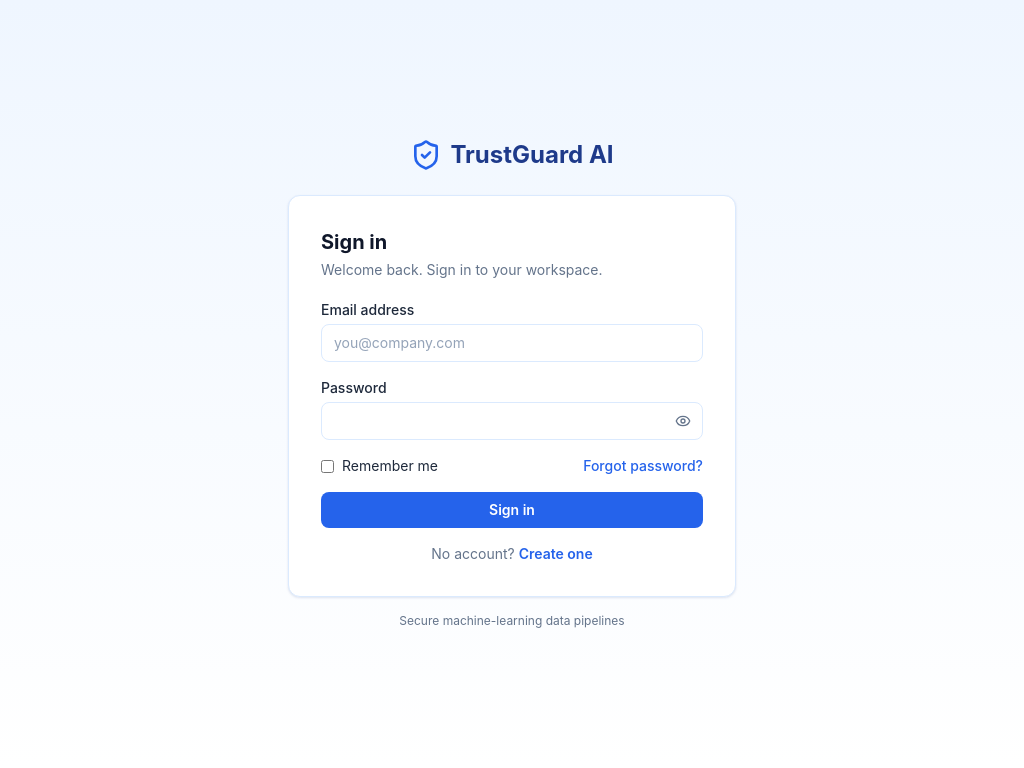
Test: login › toggles password visibility and shows backend errors
Click the button named "show password" at (683, 421), box [663,402,703,440]
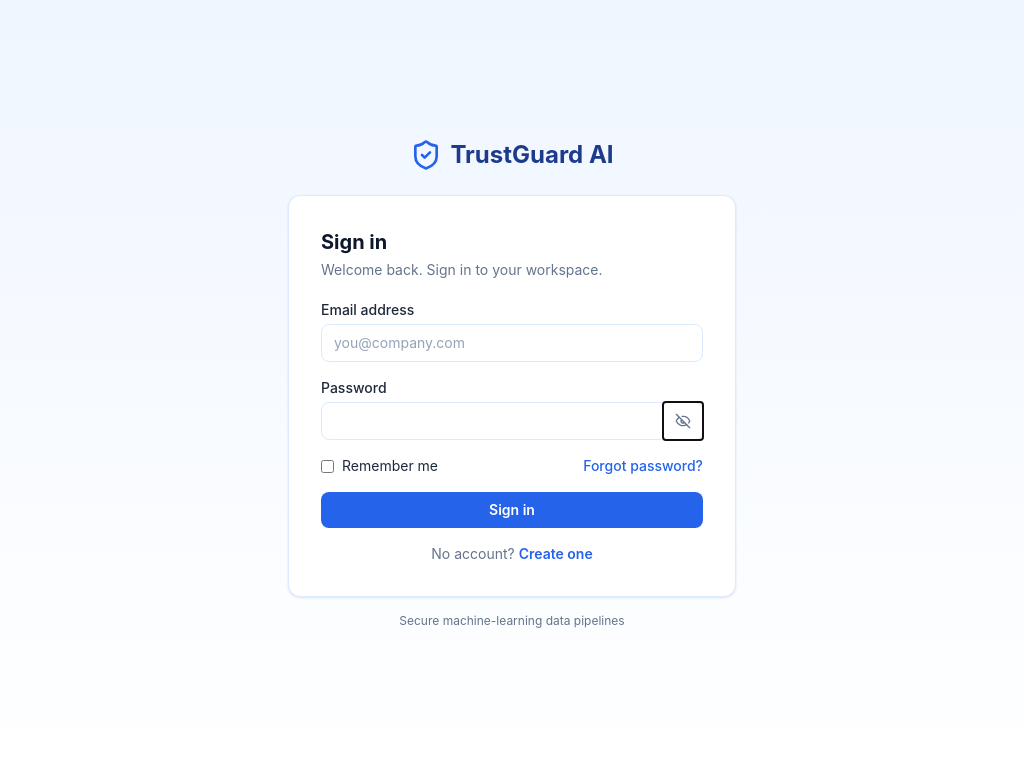
Type "a@b.com" into the field labelled "Email address" at (512, 343), box [321,324,703,362]
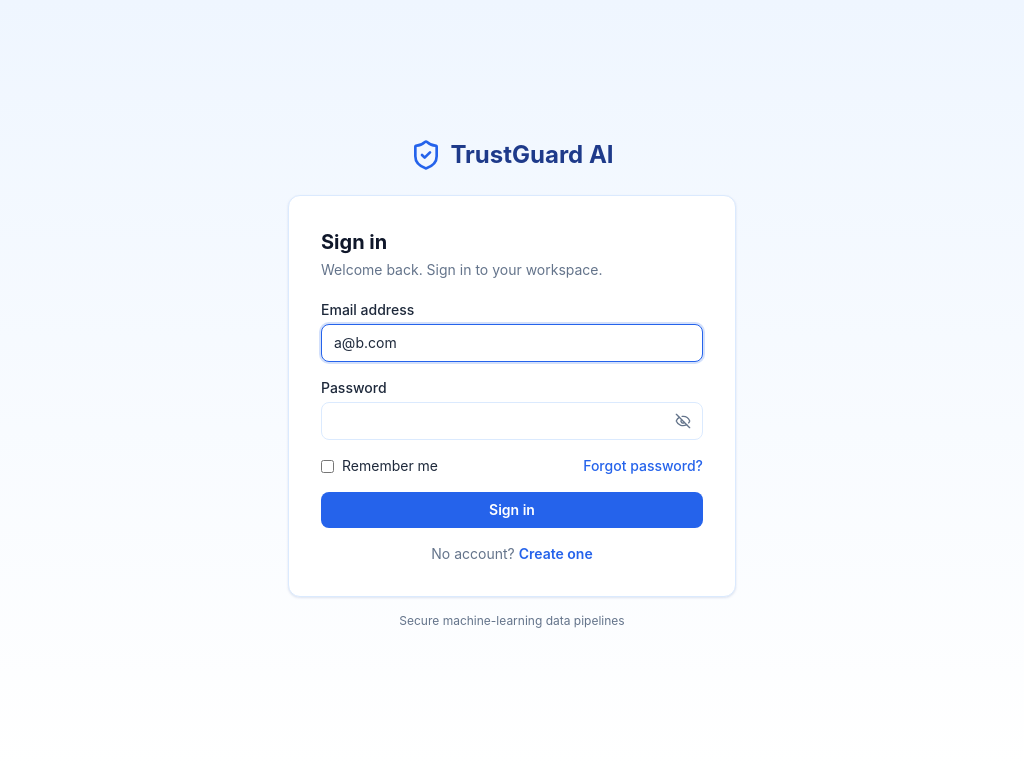
Type "x" into the field labelled "Password" at (512, 421), box [321,402,703,440]
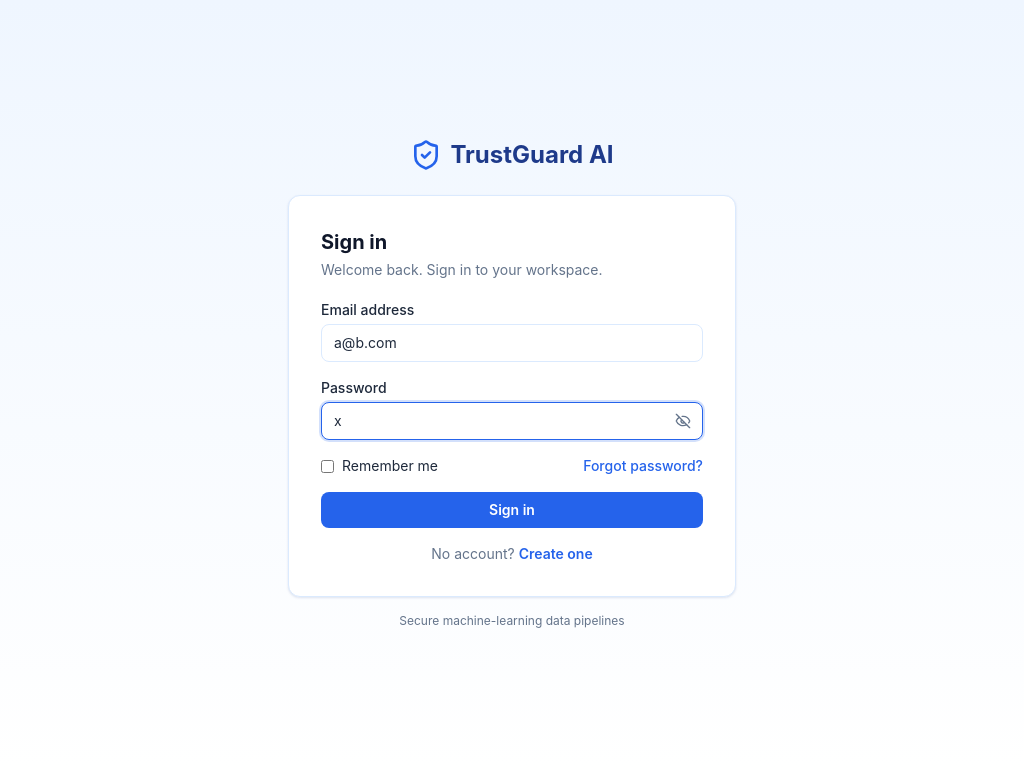
Click the button "Sign in" at (512, 510), box [321,492,703,528]
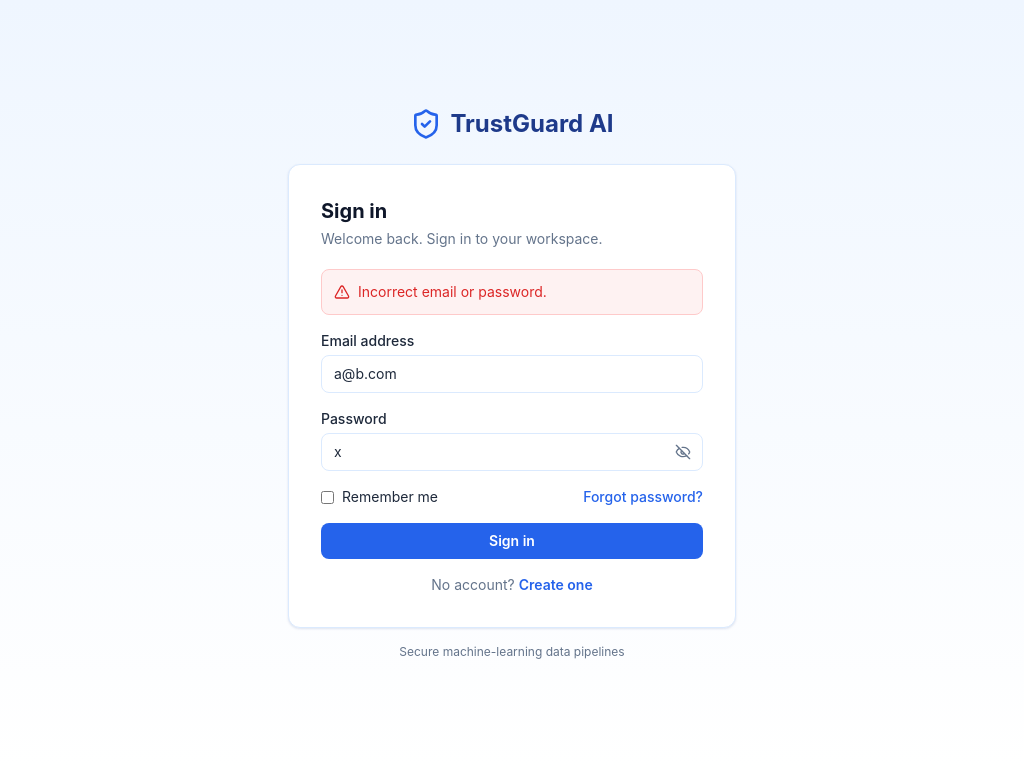
Check: the text "Incorrect email or password." is shown, box [358,282,547,302]
